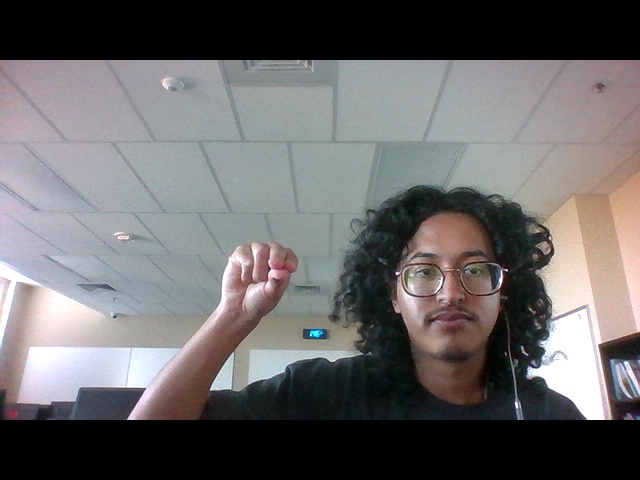no: (216, 238, 317, 326)
